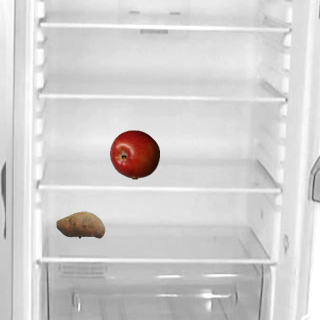Apple Braeburn: (109, 129, 159, 179)
Potato Sweet: (55, 199, 105, 249)
